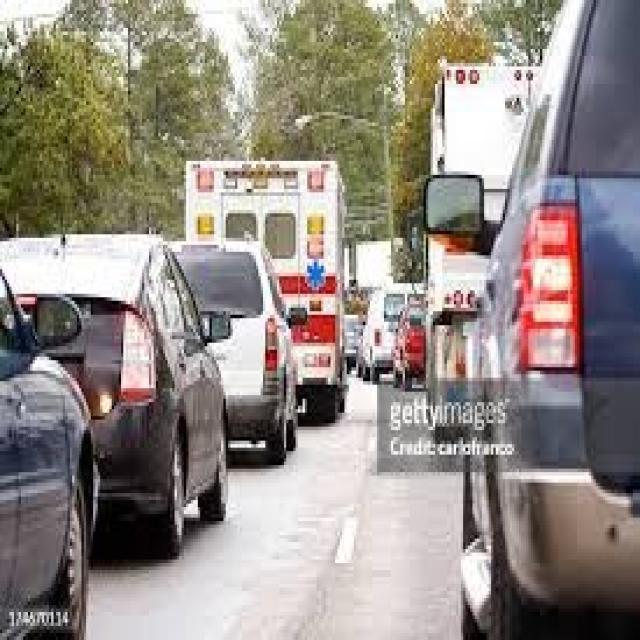ambulance: (268, 154, 352, 394), (179, 149, 350, 257)
